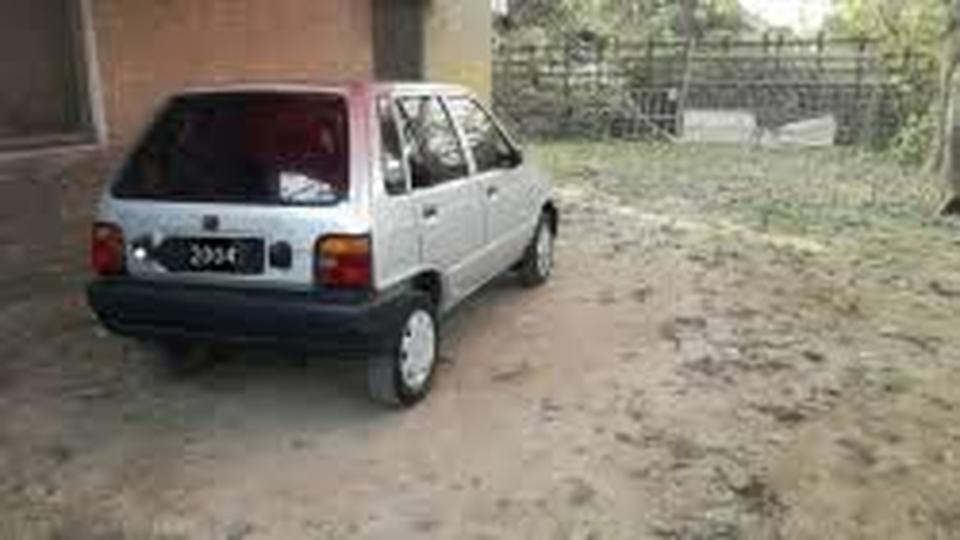NumberPlate: (153, 228, 271, 282)
